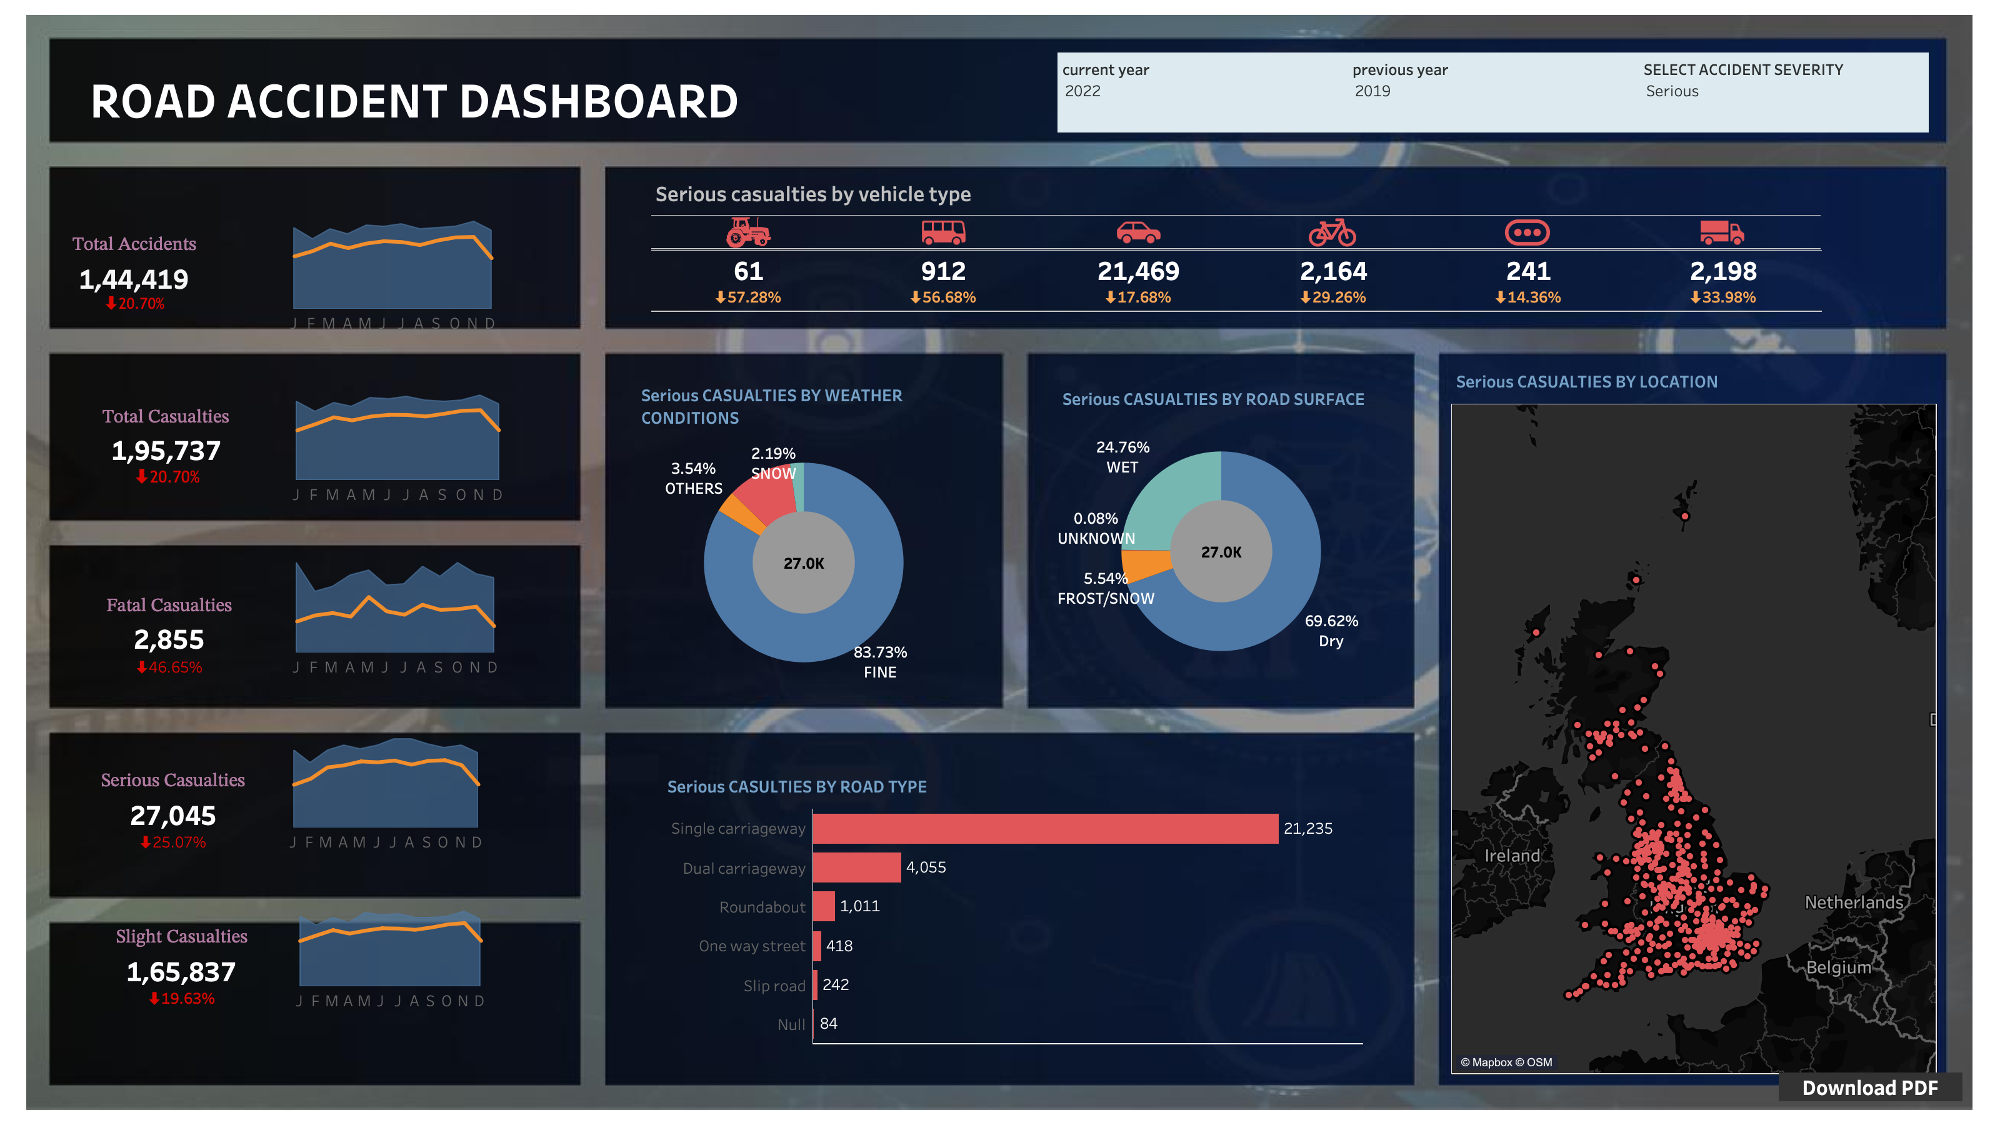

Layout of this report page (visuals, bound fields, positions):
{"tool":"tableau","page":{"name":"Dashboard 1","canvas":[1600,900],"ordinal":0},"visuals":[{"type":"image","param":"/Users/abhirockz/Downloads/Background.pptx.jpg","box":[8,8,1584,884]},{"type":"parameter","param":"[Parameters].[Parameter 1]","box":[846,42,232.3,64]},{"type":"parameter","param":"[Parameters].[current year (copy)_3069906884920127489]","box":[1078.3,42,232.3,64]},{"type":"parameter","param":"[Parameters].[Parameter 2]","box":[1310.7,42,232.3,64]},{"type":"text","box":[69,59,593,39]},{"type":"text","box":[522,140,369,30]},{"type":"worksheet","title":"vehicle type image","mark":"Shape","box":[517,168,945,32]},{"type":"worksheet","title":"total accidents","mark":"Automatic","box":[44,169,180,103]},{"type":"worksheet","title":"accident sparkline","mark":"Area","rows":["cy accidents (copy)_3069906884921647107","Calculation_3069906884920475650"],"cols":["Accident Date"],"box":[224,169,180,103]},{"type":"worksheet","title":"VEHICLE TYPE KPI","mark":"Automatic","box":[517,200,945,54]},{"type":"worksheet","title":"BY LOCATION","mark":"Automatic","rows":["Latitude"],"cols":["Longitude"],"box":[1161,290,389,570]},{"type":"worksheet","title":"weather conditions","mark":"Pie","rows":["Calculation_3069906885988765715","Calculation_3069906885988818965"],"box":[509,301,268,247]},{"type":"worksheet","title":"ROAD SURFACE","mark":"Pie","rows":["Calculation_3069906885988765715","Calculation_3069906885988818965"],"box":[846,304,262,241]},{"type":"worksheet","title":"total casualties","mark":"Automatic","box":[41,309,185,100]},{"type":"worksheet","title":"total casualties sparkline","mark":"Area","rows":["cy casualties (copy)_3069906884930314246","Calculation_3069906884929376261"],"cols":["Accident Date"],"box":[226,309,184,100]},{"type":"worksheet","title":"fatal casualties","mark":"Automatic","box":[46,442,180,105]},{"type":"worksheet","title":"fatal casualties sparkline ","mark":"Area","rows":["cy fatal casualties (copy)_3069906884934234121","Calculation_3069906884932640776"],"cols":["Accident Date"],"box":[226,442,180,105]},{"type":"worksheet","title":"serious casualties","mark":"Automatic","box":[54,583,170,104]},{"type":"worksheet","title":"serious casualties sparkline ","mark":"Area","rows":["cy serious casualties (copy)_3069906884935524364","Calculation_3069906884935290891"],"cols":["Accident Date"],"box":[224,583,169,104]},{"type":"worksheet","title":"ROAD TYPE","mark":"Automatic","rows":["Road_Type"],"cols":["Calculation_3069906884929376261"],"box":[530,614,560,221]},{"type":"worksheet","title":"slight casualties ","mark":"Automatic","box":[63,722,166,92]},{"type":"worksheet","title":"slight casualties sparkline ","mark":"Area","rows":["cy slight casualties (copy)_3069906884936470543","Calculation_3069906884936376334"],"cols":["Accident Date"],"box":[229,722,166,92]}]}

Visuals, with their boxes in screenshot pixels (x1, y1, x2, y2), scaled from the page's 1600x900 canvas onto the 2002x1125 screenshot:
image: (10,10,1992,1115)
parameter: (1059,52,1349,132)
parameter: (1349,52,1640,132)
parameter: (1640,52,1931,132)
text: (86,74,828,122)
text: (653,175,1115,212)
"vehicle type image" worksheet (Shape marks): (647,210,1829,250)
"total accidents" worksheet: (55,211,280,340)
"accident sparkline" worksheet (Area marks): (280,211,506,340)
"VEHICLE TYPE KPI" worksheet: (647,250,1829,318)
"BY LOCATION" worksheet: (1453,362,1939,1075)
"weather conditions" worksheet (Pie marks): (637,376,972,685)
"ROAD SURFACE" worksheet (Pie marks): (1059,380,1386,681)
"total casualties" worksheet: (51,386,283,511)
"total casualties sparkline" worksheet (Area marks): (283,386,513,511)
"fatal casualties" worksheet: (58,552,283,684)
"fatal casualties sparkline " worksheet (Area marks): (283,552,508,684)
"serious casualties" worksheet: (68,729,280,859)
"serious casualties sparkline " worksheet (Area marks): (280,729,492,859)
"ROAD TYPE" worksheet: (663,768,1364,1044)
"slight casualties " worksheet: (79,902,287,1018)
"slight casualties sparkline " worksheet (Area marks): (287,902,494,1018)
